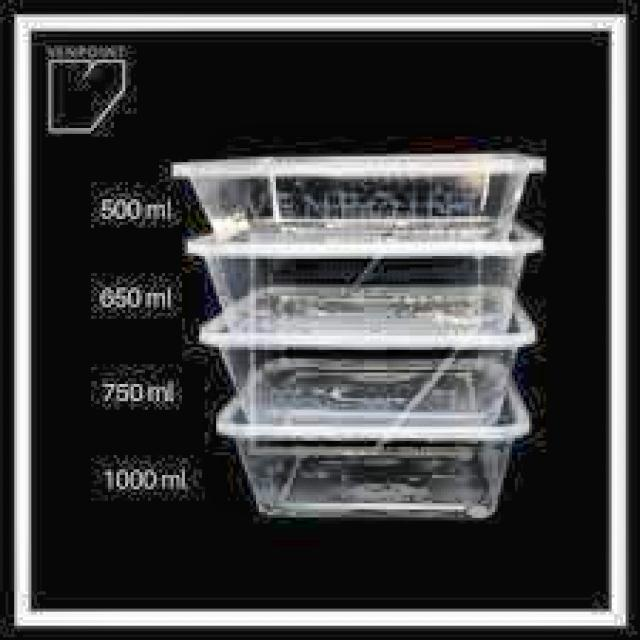plastic container: (186, 231, 541, 334), (196, 323, 542, 423), (218, 417, 532, 522), (168, 153, 543, 239)
